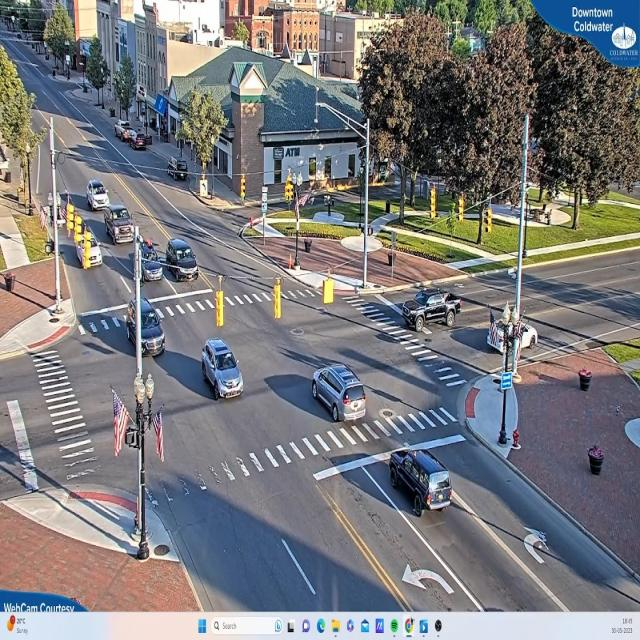car: (390, 450, 454, 516), (309, 364, 366, 422), (201, 340, 244, 401), (398, 291, 462, 331), (165, 237, 198, 282), (105, 206, 136, 243), (87, 181, 112, 212), (131, 134, 149, 150)
